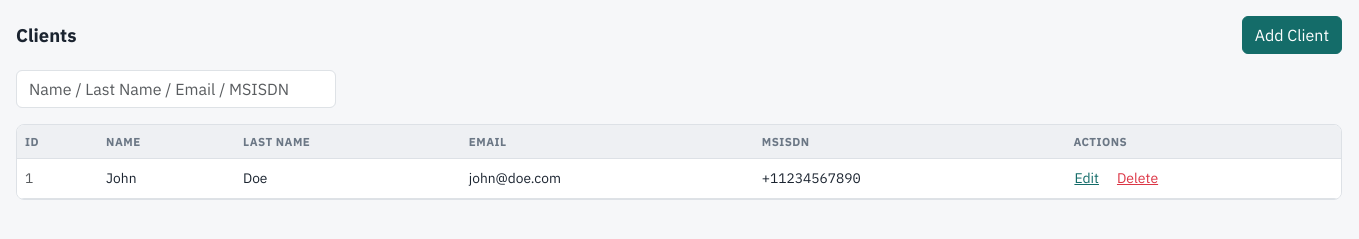
Test: deleting a client blocked by subscriptions shows the reason and keeps the row
The image size is (1359, 239).
expect the text "John" is shown: met, box top-left (98, 159), bottom-right (235, 199)
Step 1. Click the button "Delete" → x=1138, y=179, box top-left (1116, 167), bottom-right (1159, 190)
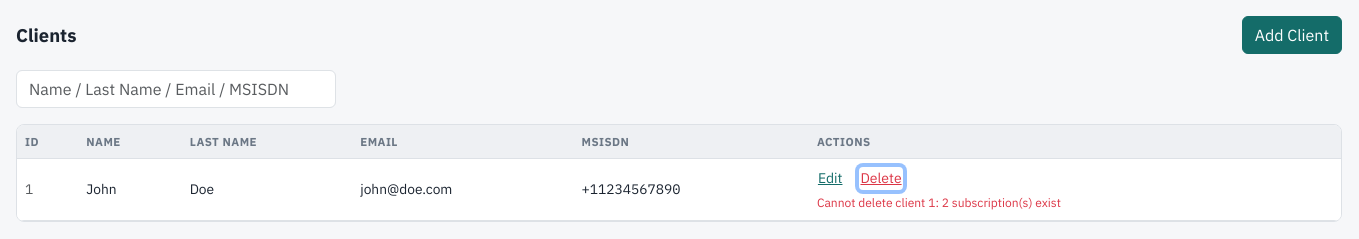
expect the text "John" is shown: met, box top-left (78, 159), bottom-right (182, 221)
expect the text "Cannot delete client 1: 2 subscription(s) exist" is shown: met, box top-left (817, 195), bottom-right (1061, 210)
